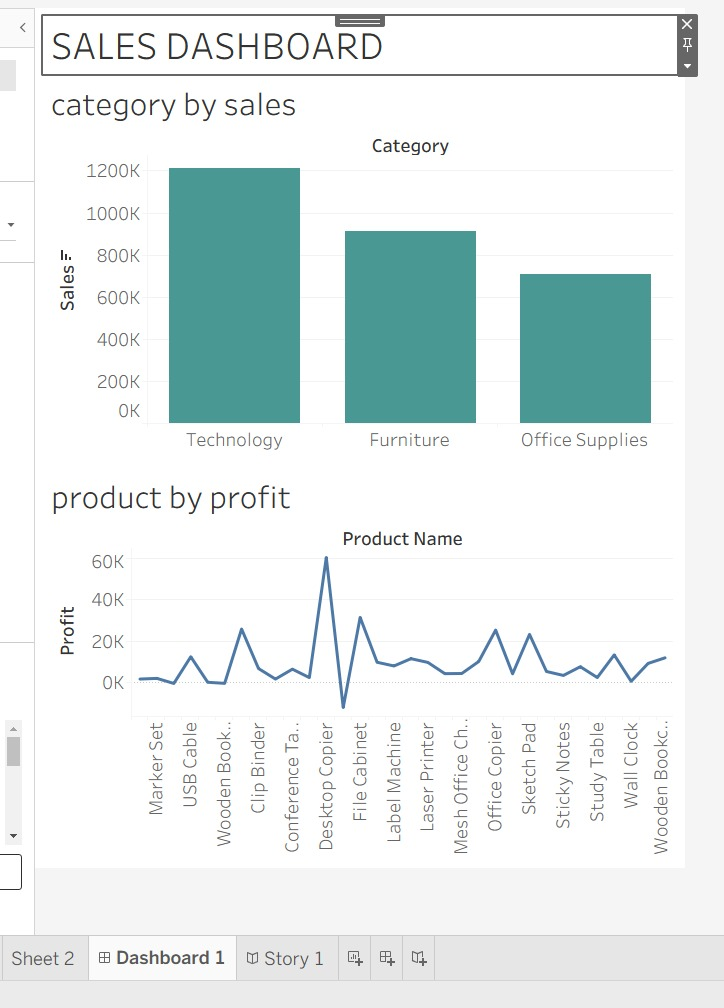

Layout of this report page (visuals, bound fields, positions):
{"tool":"tableau","page":{"name":"Dashboard 1","canvas":[650,860],"ordinal":0},"visuals":[{"type":"title","box":[8,8,634,58]},{"type":"worksheet","title":"Sheet 2","mark":"Automatic","rows":["Sales"],"cols":["Category"],"box":[8,66,634,393]},{"type":"worksheet","title":"Sheet 1","mark":"Line","rows":["Profit"],"cols":["Product Name"],"box":[8,459,634,393]}]}

Visuals, with their boxes on the page's 650x860 design canvas (x1, y1, x2, y2). These are canvas units, not pixel positions in the 724x1008 screenshot, which may show the page scaled, cropped or inside an application window:
title: <bbox>8, 8, 642, 66</bbox>
"Sheet 2" worksheet: <bbox>8, 66, 642, 459</bbox>
"Sheet 1" worksheet (Line marks): <bbox>8, 459, 642, 852</bbox>
